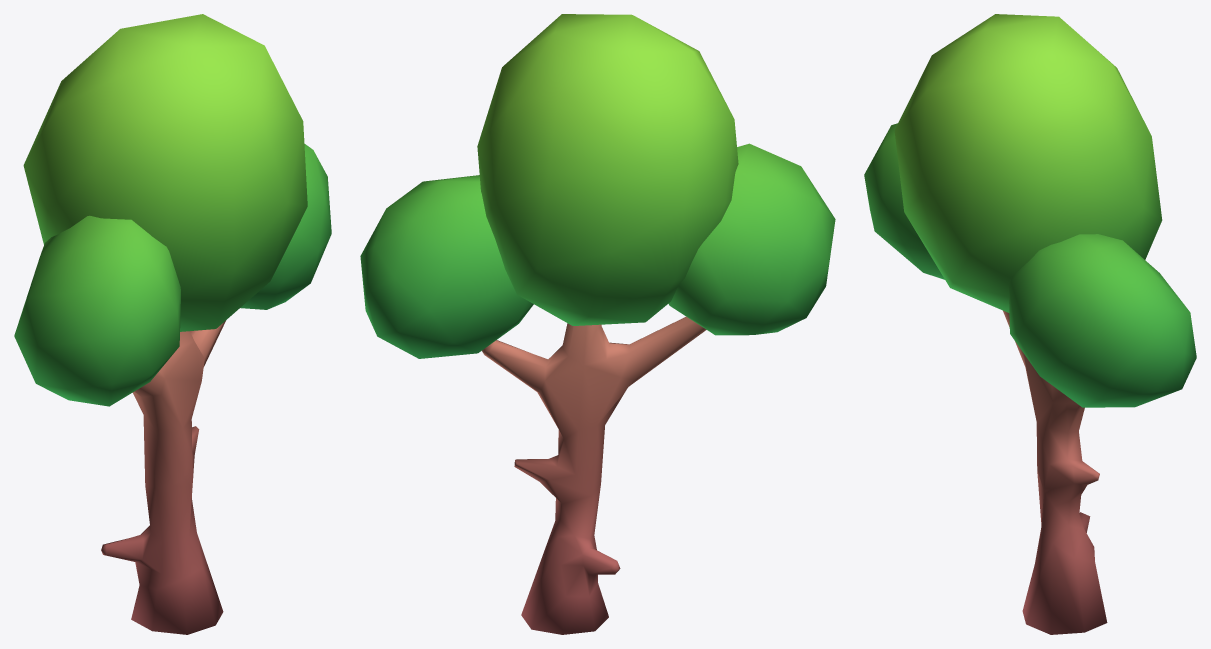
File: Tree_2.fbx
The picture shows the model from 3 angles, left to right: view 1: azimuth 30°, elevation 25°; view 2: azimuth 150°, elevation 25°; view 3: azimuth 270°, elevation 25°; orthographic projection. The views are drawn at different scales.
Visible parts, largest first — view 1: Tree_2; view 2: Tree_2; view 3: Tree_2.
Boxes of the visible parts, x1=… form: Tree_2: x1=14, y1=14, x2=331, y2=634; Tree_2: x1=360, y1=14, x2=835, y2=634; Tree_2: x1=864, y1=14, x2=1196, y2=634.
Bounding box in the file's own units: 143 × 216 × 113.
